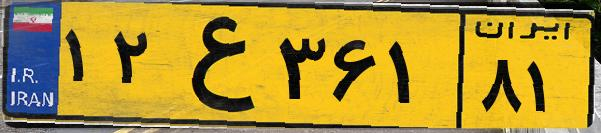1: (385, 28, 445, 110), (57, 26, 110, 100), (525, 38, 570, 115)
2: (110, 28, 158, 98)
3: (270, 28, 330, 110)
6: (330, 28, 385, 110)
8: (475, 38, 525, 113)
ع: (158, 12, 270, 120)
